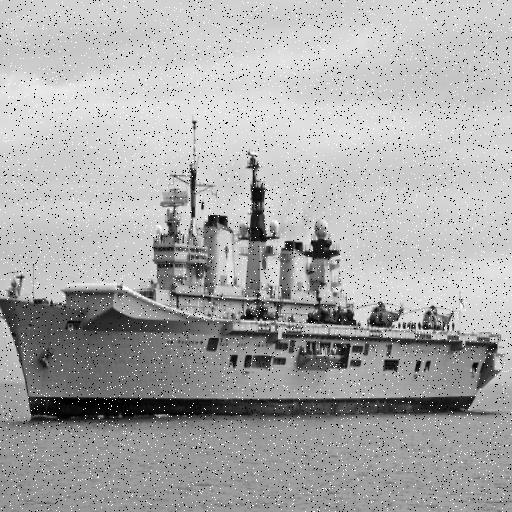Portanaves: (1, 112, 511, 427)
